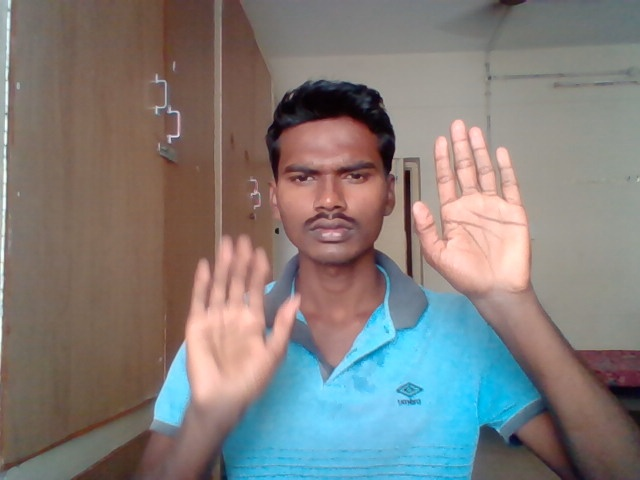Hello: (411, 119, 534, 298)
